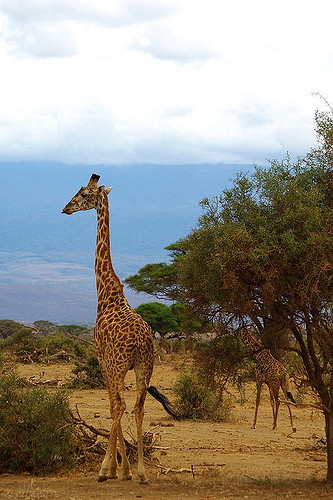giraffe: (44, 168, 183, 477)
